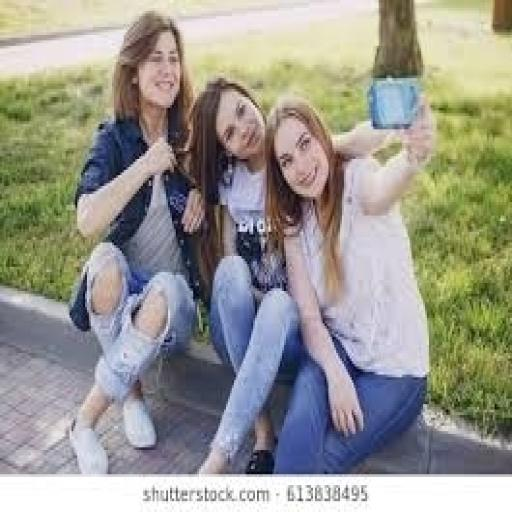sitting: (64, 8, 436, 474), (261, 92, 435, 474), (66, 8, 208, 472), (186, 73, 300, 474)
